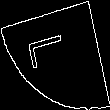L_E: (31, 33, 79, 77)
